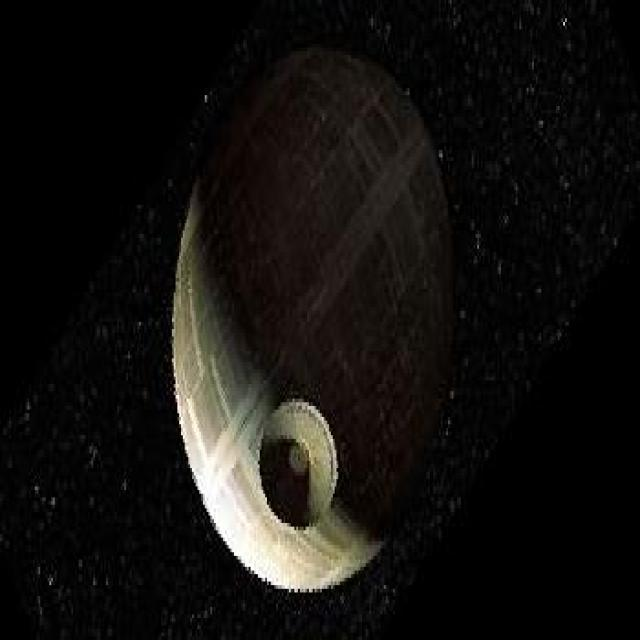Death Star: (167, 33, 457, 600)
